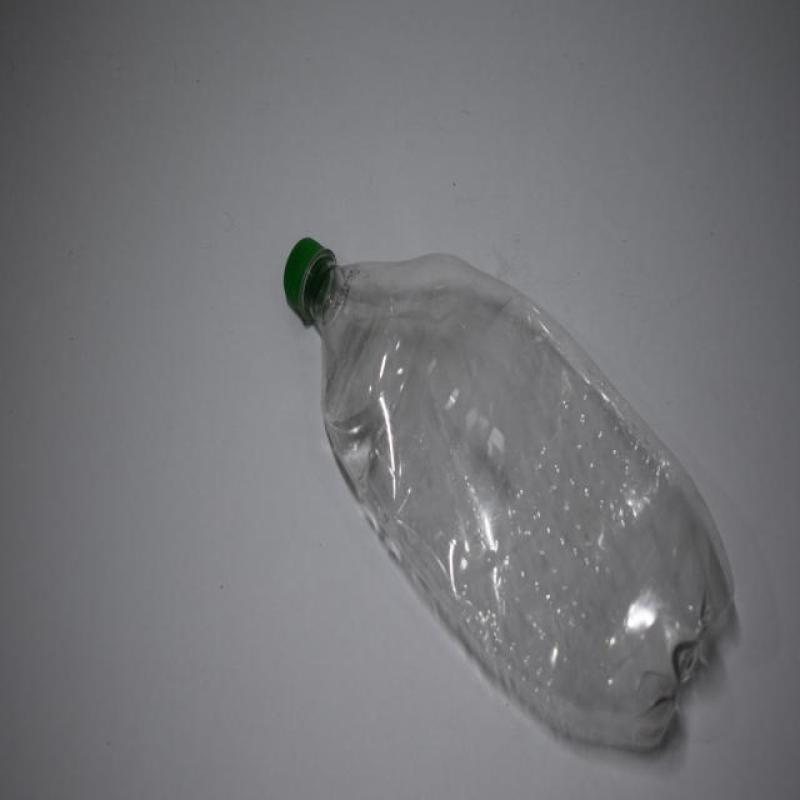botella: (284, 239, 734, 761)
